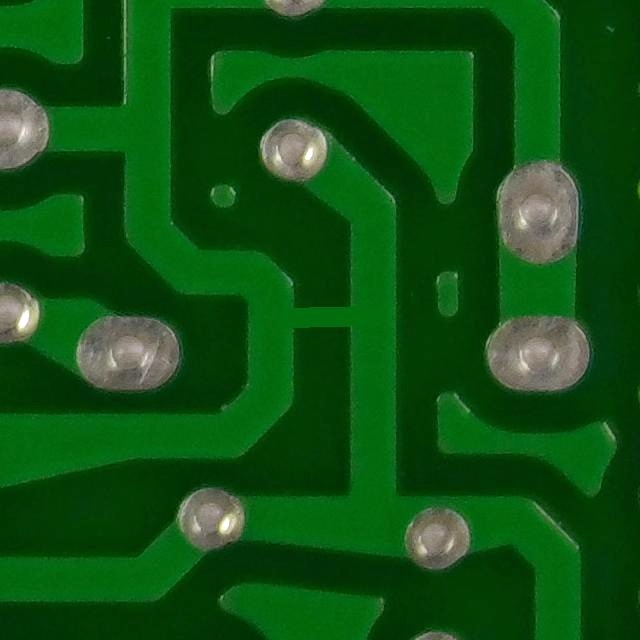short: (234, 264, 407, 377)
